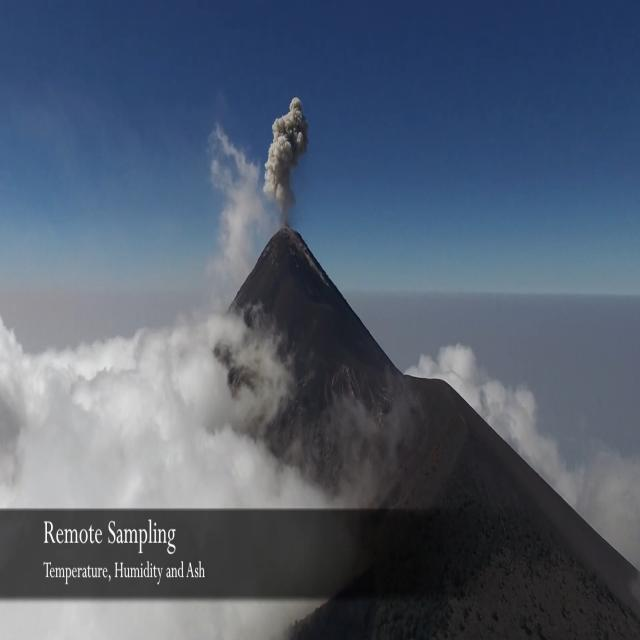Plume: (254, 81, 314, 222)
Summit: (167, 222, 490, 428)
